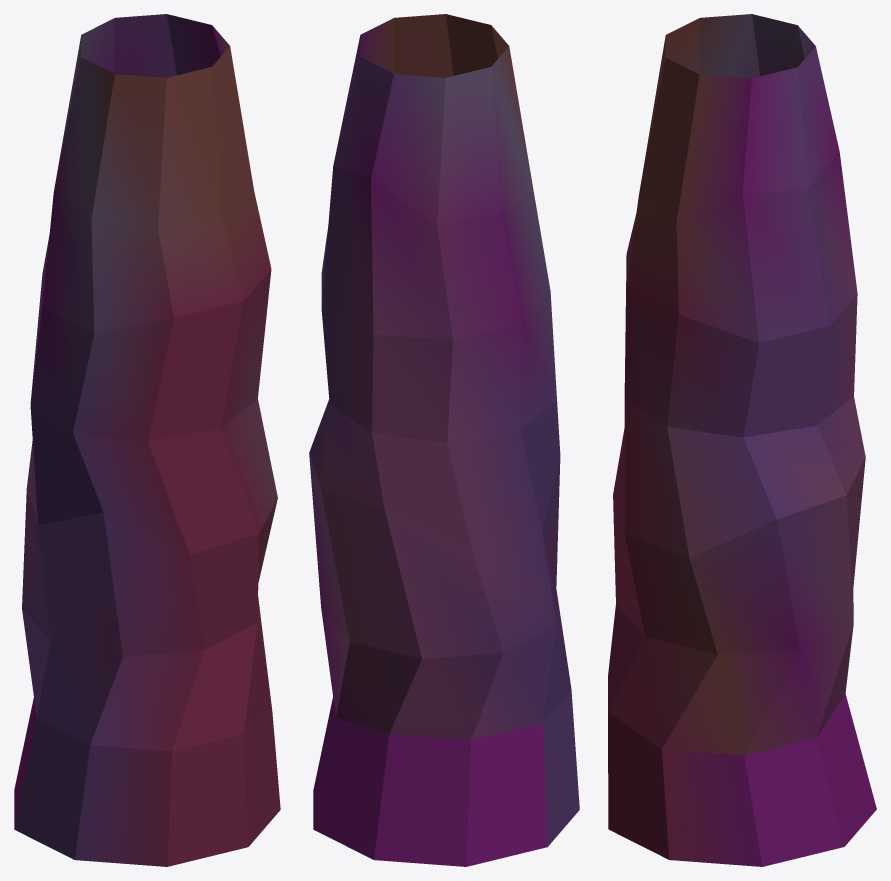
File: test_vc_tunnel_nat.fbx
The picture shows the model from 3 angles, left to right: view 1: azimuth 30°, elevation 25°; view 2: azimuth 150°, elevation 25°; view 3: azimuth 270°, elevation 25°; orthographic projection.
Visible parts, largest first — view 1: Circle; view 2: Circle; view 3: Circle.
Part boxes in pixels (<box>): Circle: <box>14,14,280,866</box>; Circle: <box>309,14,579,866</box>; Circle: <box>608,14,876,866</box>.
Size of the model in its own units: 591 by 1835 by 583.
